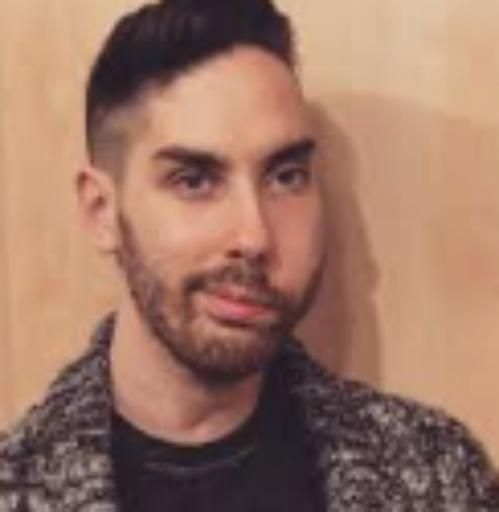left_eye: (268, 166, 314, 193)
left_lip_corner: (257, 298, 275, 314)
right_eye: (160, 166, 228, 198)
right_lip_corner: (185, 279, 216, 303)
